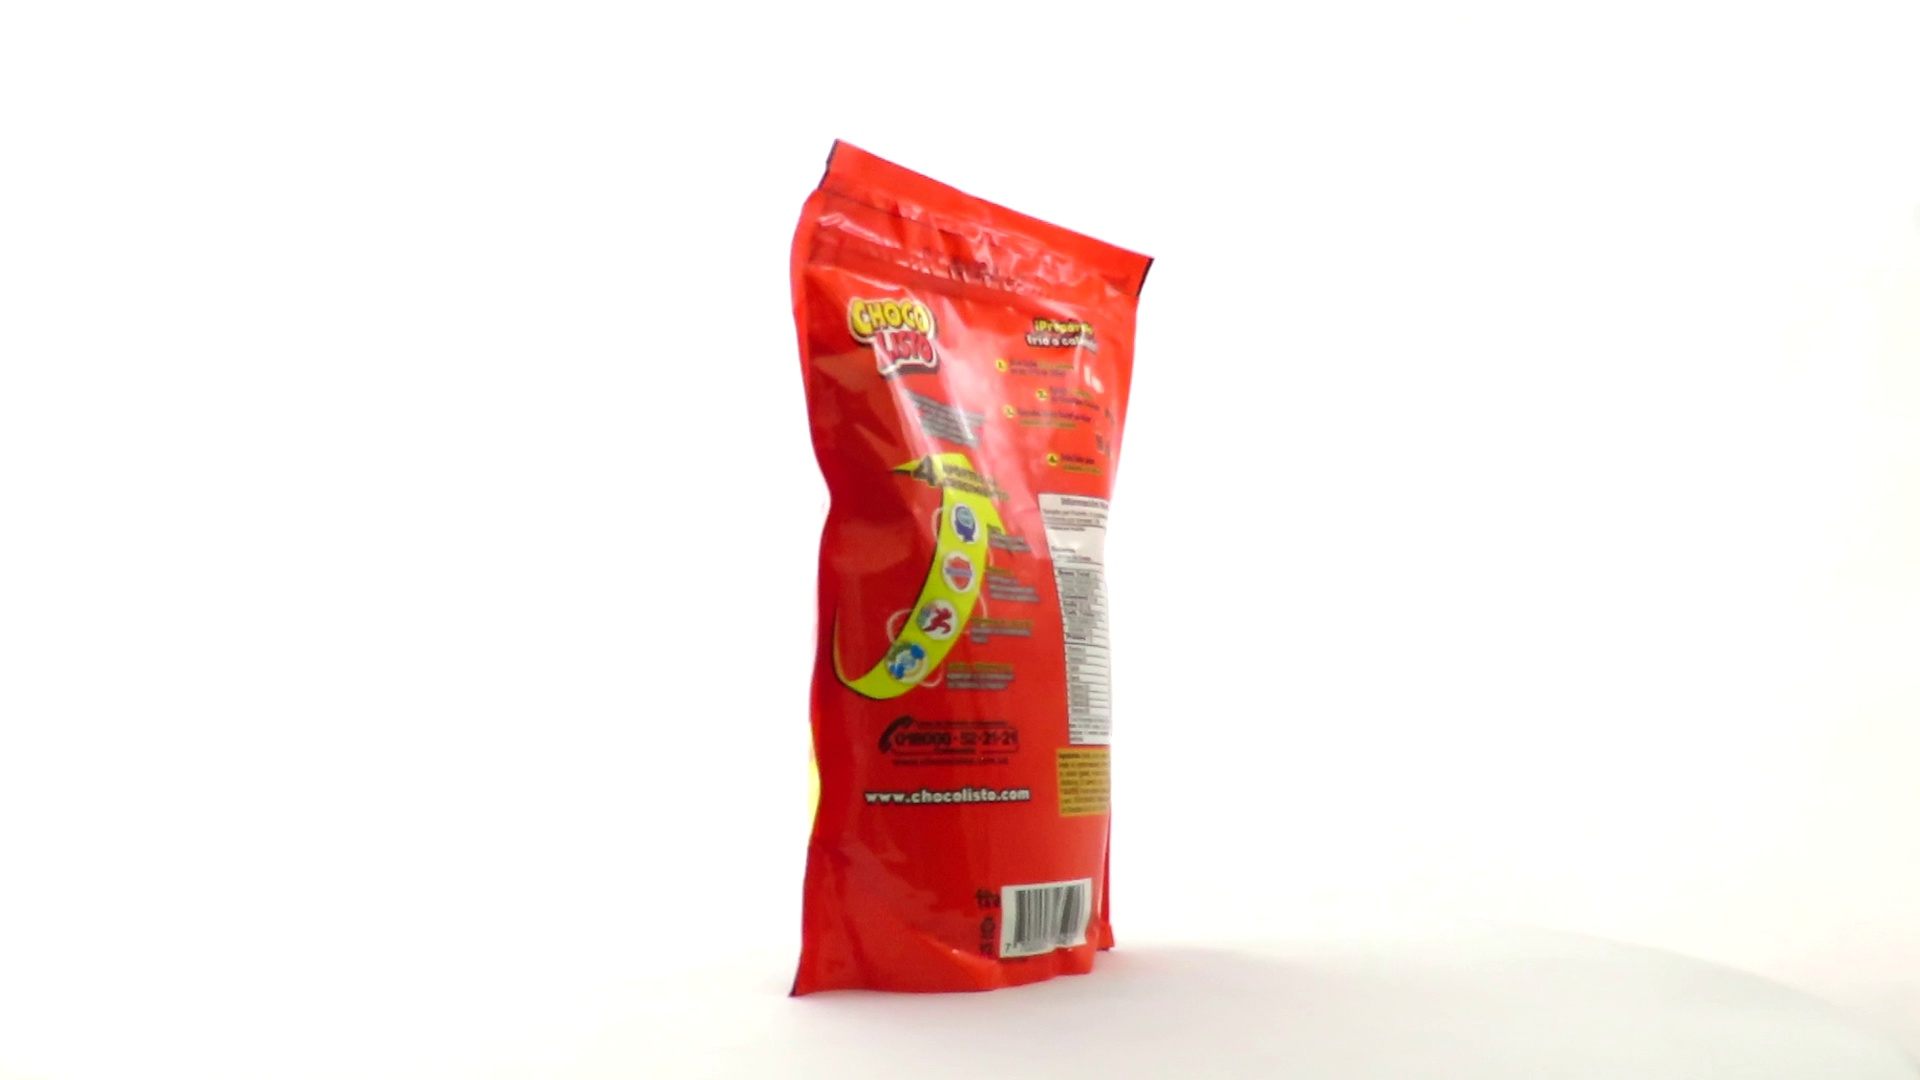COL0170103DYP36000: (785, 133, 1160, 1004)
